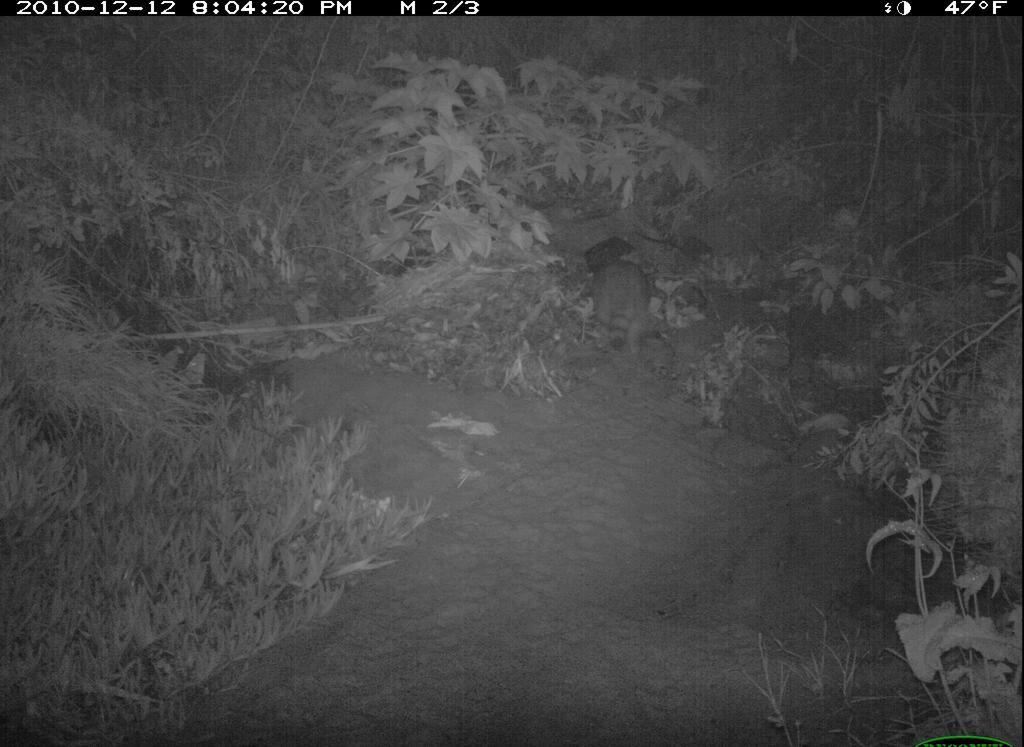raccoon: (579, 242, 697, 368)
